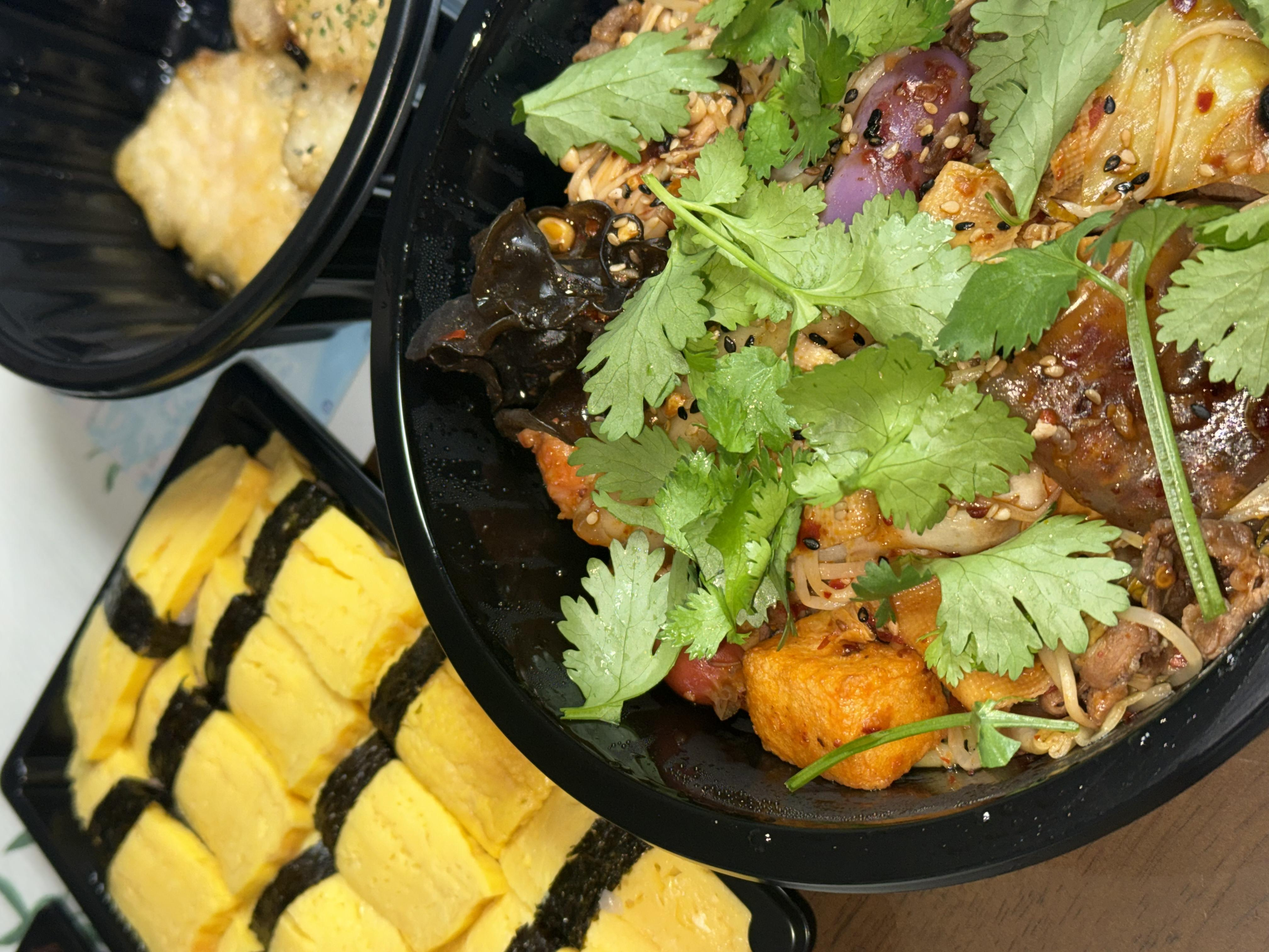Lunch Box: (81, 279, 1269, 952), (0, 0, 784, 608), (739, 0, 1269, 330)
